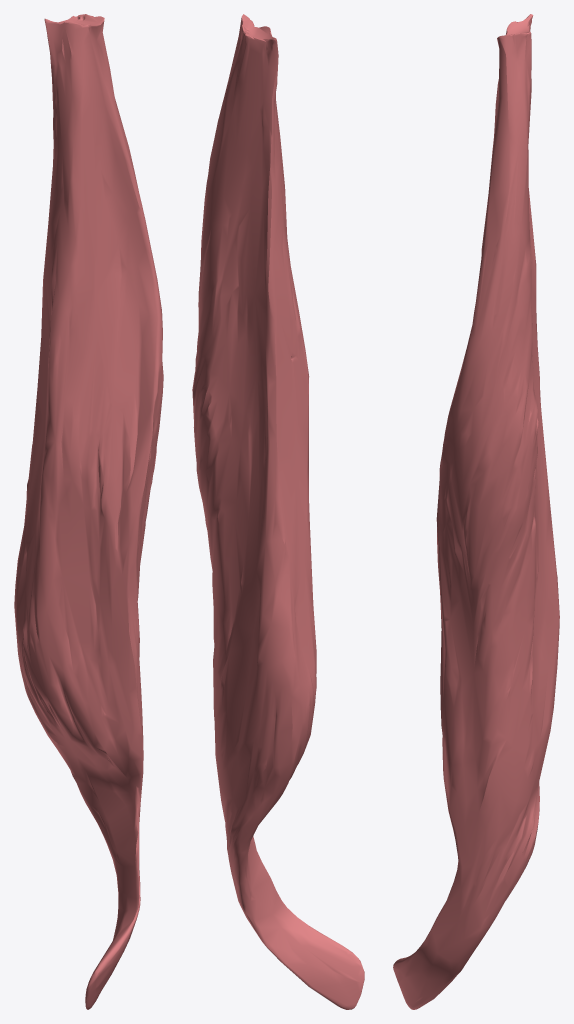
3 renders of one model, left to right at view 1: azimuth 30°, elevation 25°; view 2: azimuth 150°, elevation 25°; view 3: azimuth 270°, elevation 25°, orthographic. The views are drawn at different scales.
Visible parts, largest first — view 1: FJ1435; view 2: FJ1435; view 3: FJ1435.
Part boxes in pixels (x1,y1,x2,y2): FJ1435: [14, 14, 163, 1009]; FJ1435: [192, 14, 364, 1009]; FJ1435: [393, 14, 559, 1009].
Size of the model in its own units: 0.0575 by 0.4362 by 0.0658.
